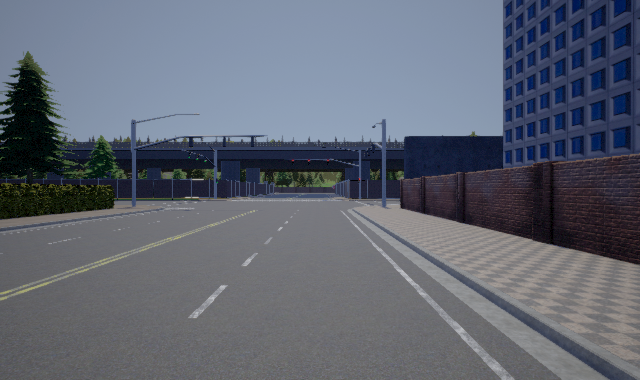traffic_light: (327, 159, 329, 165), (308, 159, 310, 165), (292, 159, 294, 165), (358, 178, 360, 183)
